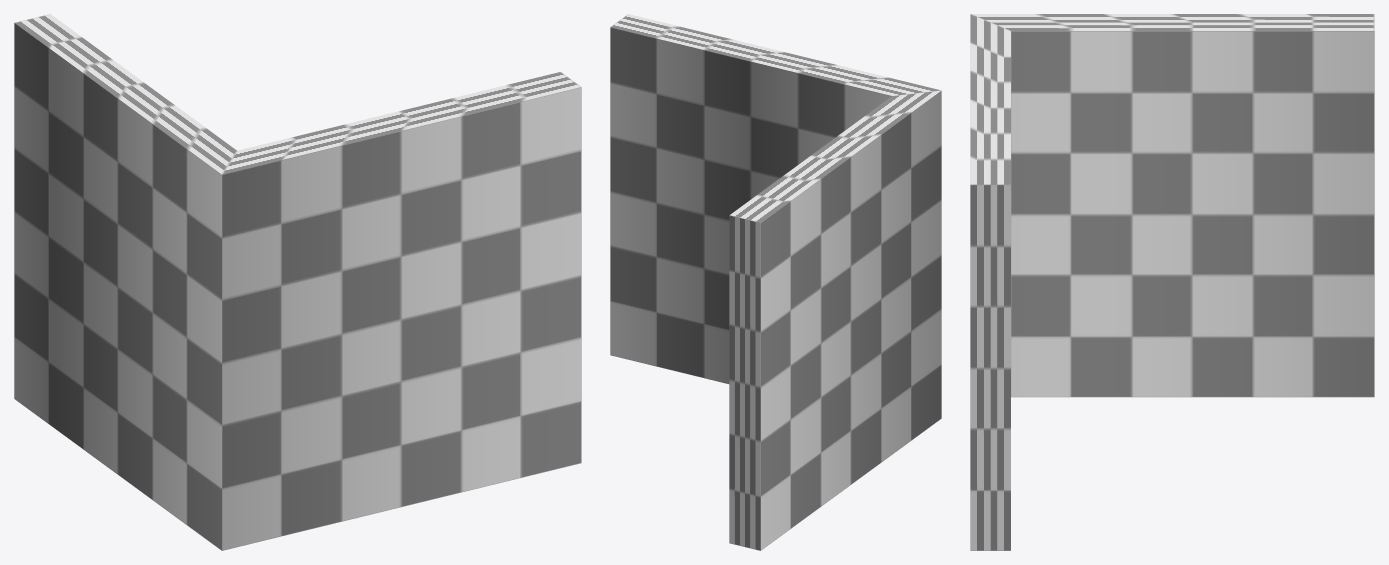
Rendered from CornerWall.fbx.
The picture shows the model from 3 angles, left to right: view 1: azimuth 30°, elevation 25°; view 2: azimuth 150°, elevation 25°; view 3: azimuth 270°, elevation 25°; orthographic projection. The views are drawn at different scales.
Visible parts, largest first — view 1: CornerWall; view 2: CornerWall; view 3: CornerWall.
Part boxes in pixels (box(x1,y1,x2,y2)): CornerWall: box(14, 14, 581, 550); CornerWall: box(610, 14, 941, 550); CornerWall: box(970, 14, 1374, 550).
Bounding box in the file's own units: 118 × 118 × 118.
Materials: 1 (1 with a texture image).
